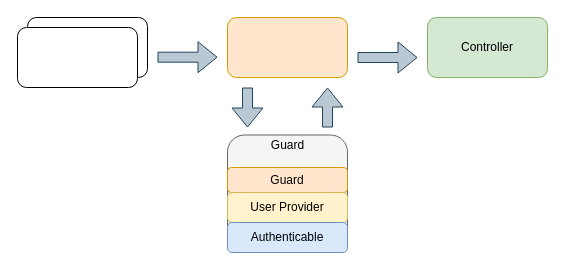
This 565x270 diagram has some shape labels left out. Each missing label, with the centre of its shape:
"Auth Middleware" belongs at (287,47).
"HTTP" belongs at (77,57).
